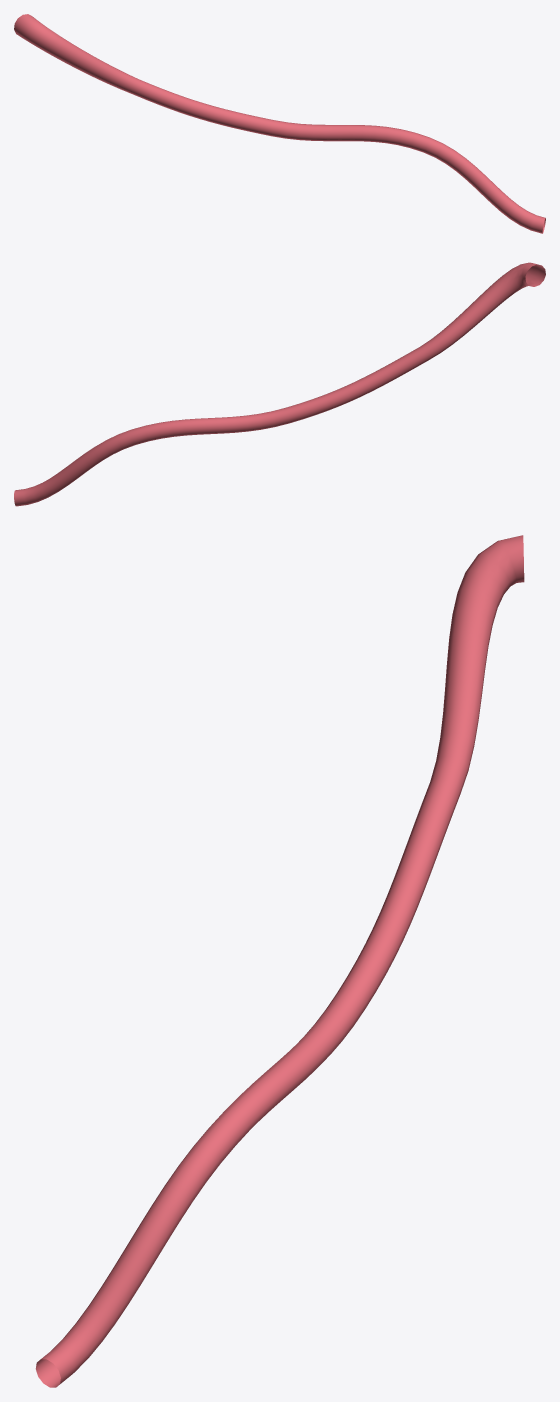
3 views of the same model, one above another, from view 1: azimuth 30°, elevation 25°; view 2: azimuth 210°, elevation 25°; view 3: azimuth 270°, elevation 25° (orthographic). The views are drawn at different scales.
Parts seen in each view (by area): view 1: ZA_14cf28681a65b96c; view 2: ZA_14cf28681a65b96c; view 3: ZA_14cf28681a65b96c.
Part boxes in pixels (left/top/right/bottom): ZA_14cf28681a65b96c: left=14, top=14, right=545, bottom=233; ZA_14cf28681a65b96c: left=14, top=262, right=545, bottom=506; ZA_14cf28681a65b96c: left=35, top=535, right=524, bottom=1387.
Bounding box in the file's own units: 0.0397 × 0.021 × 0.0202.
